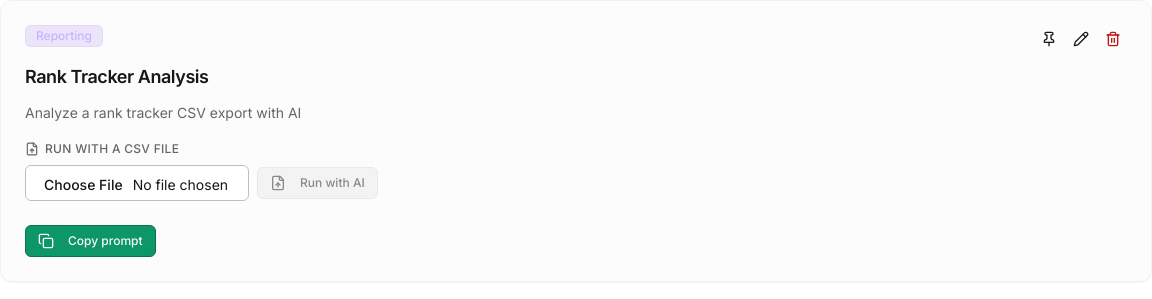
Test: WorkflowCard - action tooltips (B-24) › shows an explanatory tooltip on hover for the pin, edit, and delete icons
Hover over the button with test id "button-pin-7" at (1049, 39), box [1035,25,1063,53]
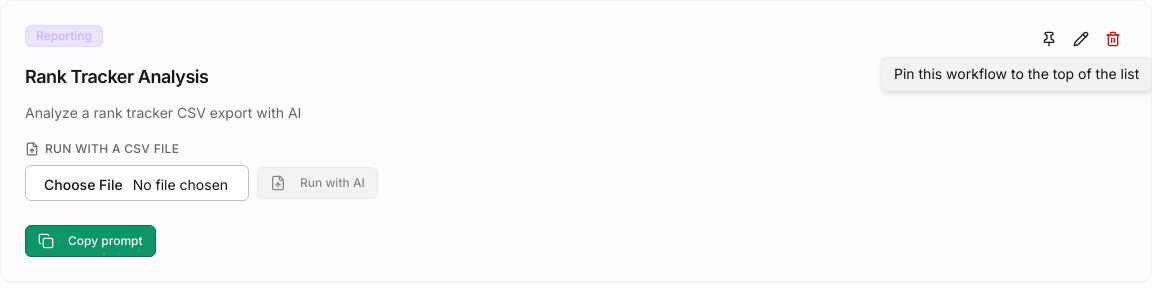
Now the tooltip "Pin this workflow to the top of the list" is shown, box [881,57,1151,91]
Hover over the button with test id "button-edit-7" at (1081, 39), box [1067,25,1095,53]
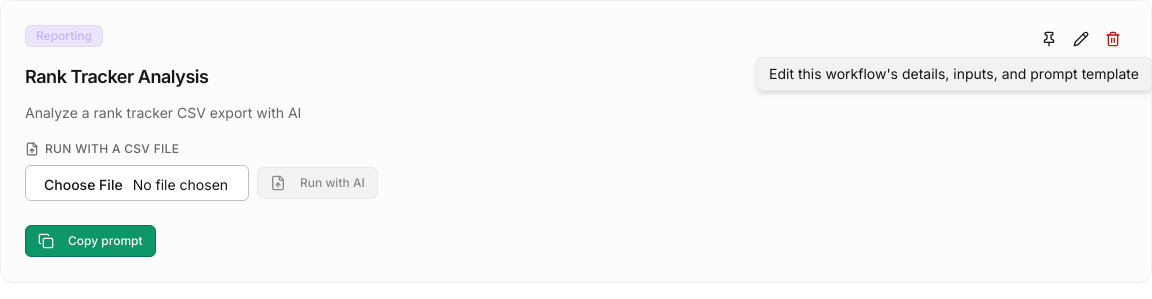
Now the tooltip "Edit this workflow's details, inputs, and prompt template" is shown, box [756,57,1151,91]
Hover over the button with test id "button-delete-7" at (1113, 39), box [1099,25,1127,53]
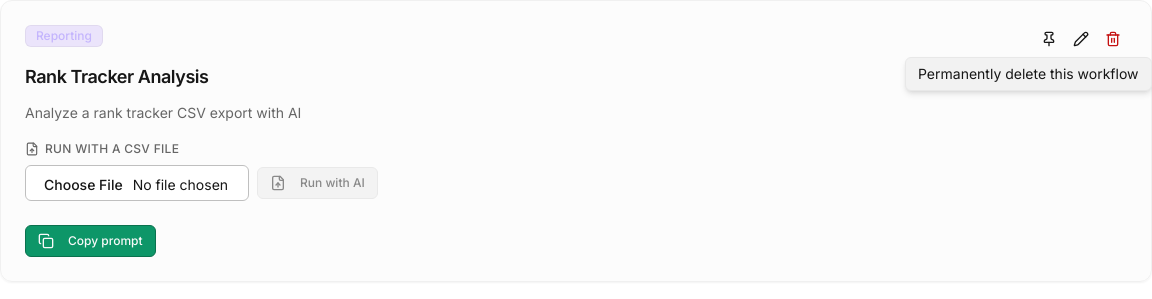
Now the tooltip "Permanently delete this workflow" is shown, box [905,57,1151,91]
